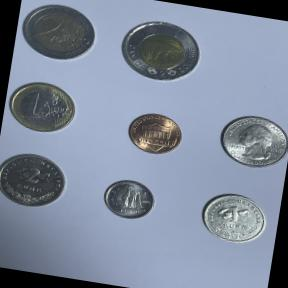1 Euro: (0, 74, 82, 139)
2 Euro: (14, 0, 102, 67)
Canda-10cent-: (97, 174, 161, 226)
Canda-2Dollar-: (114, 12, 209, 89)
Croatia-2Kune-: (0, 145, 74, 214)
US-1cent-: (121, 107, 187, 160)
US-25cent-: (211, 107, 288, 174)
